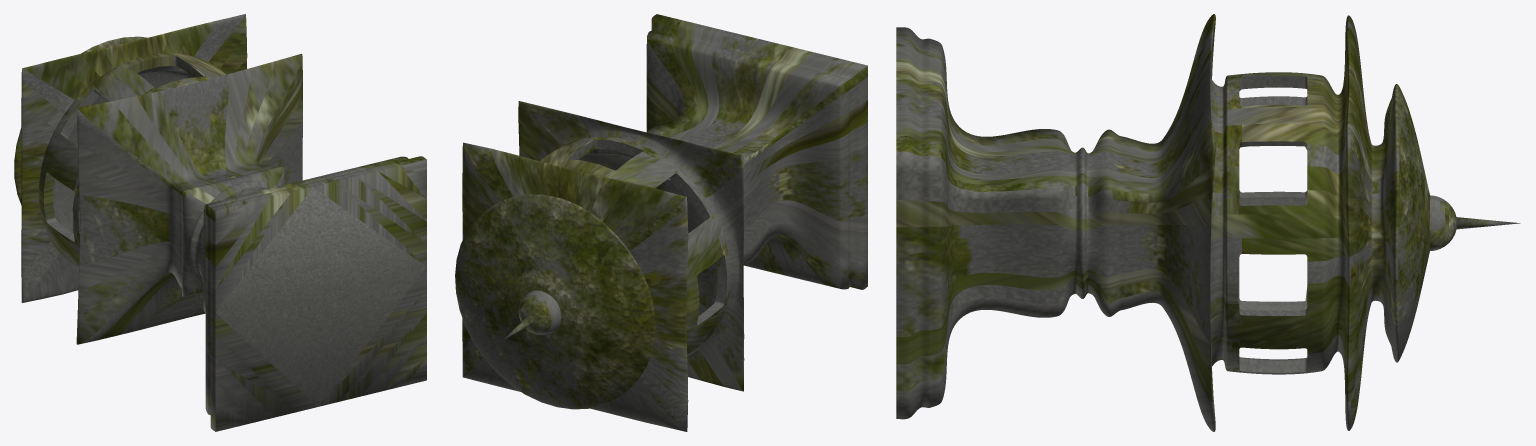
File: StreetLight@1.fbx
3 views of the same model, side by side, from view 1: azimuth 30°, elevation 25°; view 2: azimuth 150°, elevation 25°; view 3: azimuth 270°, elevation 25° (orthographic). The views are drawn at different scales.
Parts seen in each view (by area): view 1: Stone_Lantern_1; view 2: Stone_Lantern_1; view 3: Stone_Lantern_1.
Part boxes in pixels (<box>): Stone_Lantern_1: <box>14,14,426,431</box>; Stone_Lantern_1: <box>455,14,867,431</box>; Stone_Lantern_1: <box>896,14,1520,431</box>.
Size of the model in its own units: 44.75 by 44.85 by 88.87.
1 material, 1 textured.
